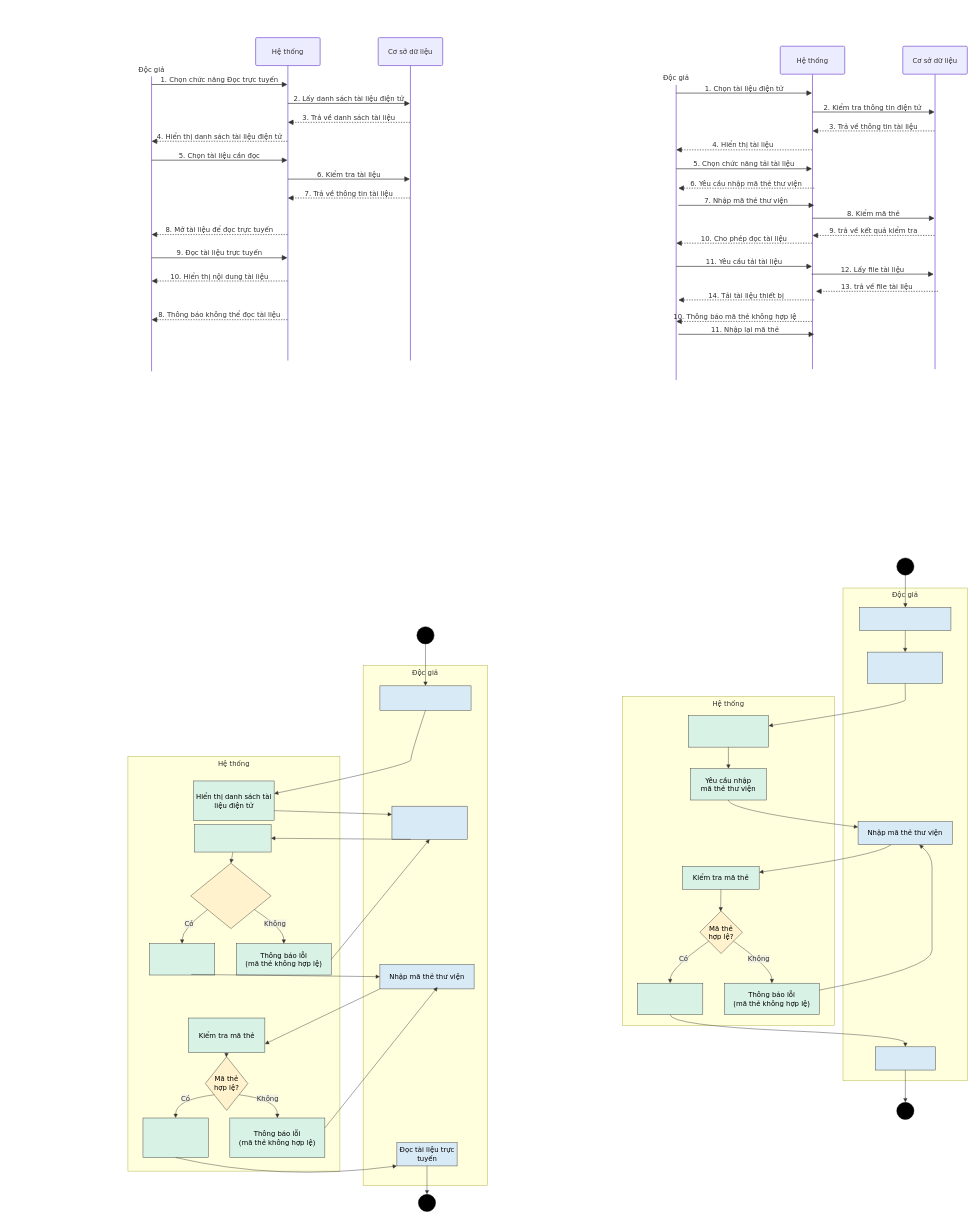
The diagram is 975 pixels wide and 1219 high, and some of its shapes have lost their labels. The shapes that lost their labels are listed below. From the top down, each one's centre as x and y in pixels, then its label:
point 905,619: Chọn tài liệu điện tử
point 905,667: Chọn chức năng Tải tài liệu
point 425,697: Chọn chức năng đọc trực tuyến
point 728,731: Hiển thị thông tin tài liệu
point 232,838: Kiểm tra tài liệu
point 429,822: chọn tài liệu cần đọc
point 230,896: Tài liệu có tồn vại và hợp lệ
point 182,959: Yêu cầu nhập mã thẻ
point 670,999: Cho phép tải tài liệu
point 905,1058: Tải tài liệu
point 175,1138: Mở tài liệu để đọc trực tuyến
